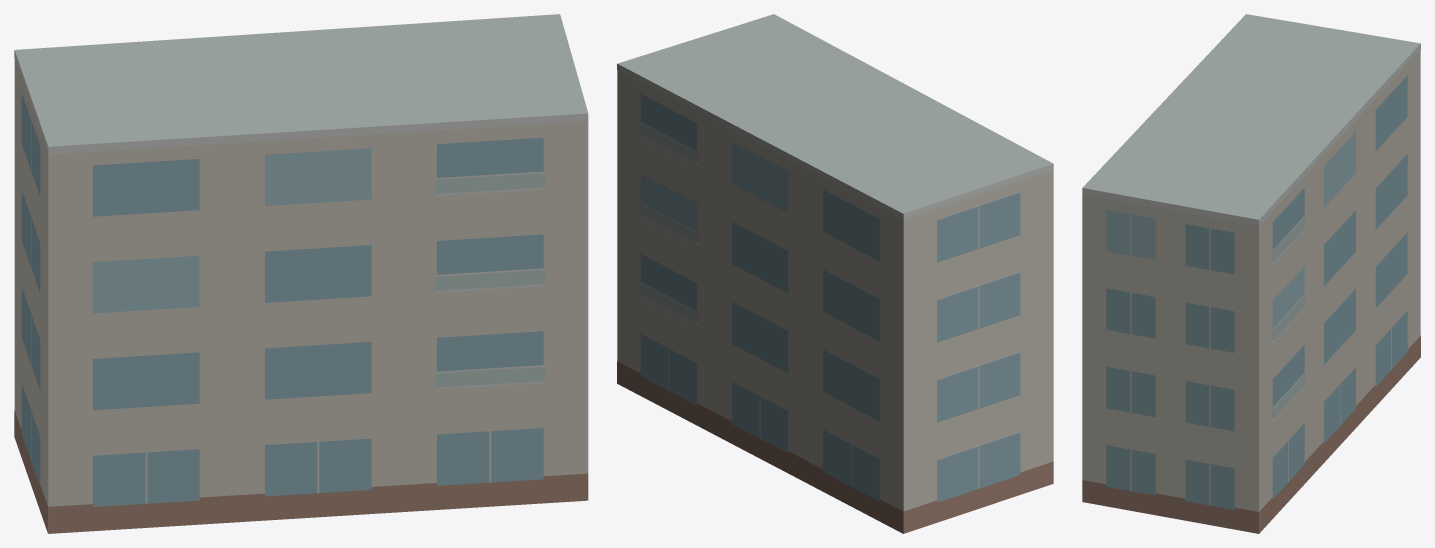
File: survey-upis-33030465.glb
The picture shows the model from 3 angles, left to right: view 1: azimuth 30°, elevation 25°; view 2: azimuth 150°, elevation 25°; view 3: azimuth 270°, elevation 25°; orthographic projection. The views are drawn at different scales.
Visible parts, largest first — view 1: survey-upis-33030465.tmp; view 2: survey-upis-33030465.tmp; view 3: survey-upis-33030465.tmp.
Boxes of the visible parts, <box> form: survey-upis-33030465.tmp: <box>14,14,588,533</box>; survey-upis-33030465.tmp: <box>617,14,1053,533</box>; survey-upis-33030465.tmp: <box>1082,14,1420,533</box>.
Size of the model in its own units: 17.16 by 12.2 by 11.93.
